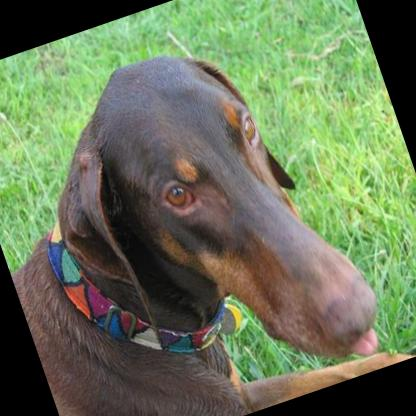Doberman: (0, 5, 413, 416)
